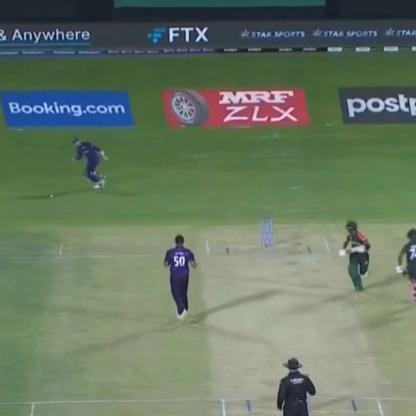ball: (42, 189, 61, 204)
pitch: (194, 218, 401, 415)
